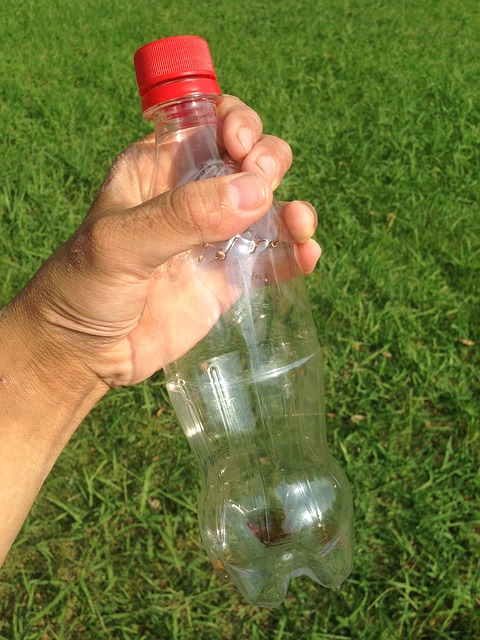plastic_bottle: (125, 27, 361, 616)
